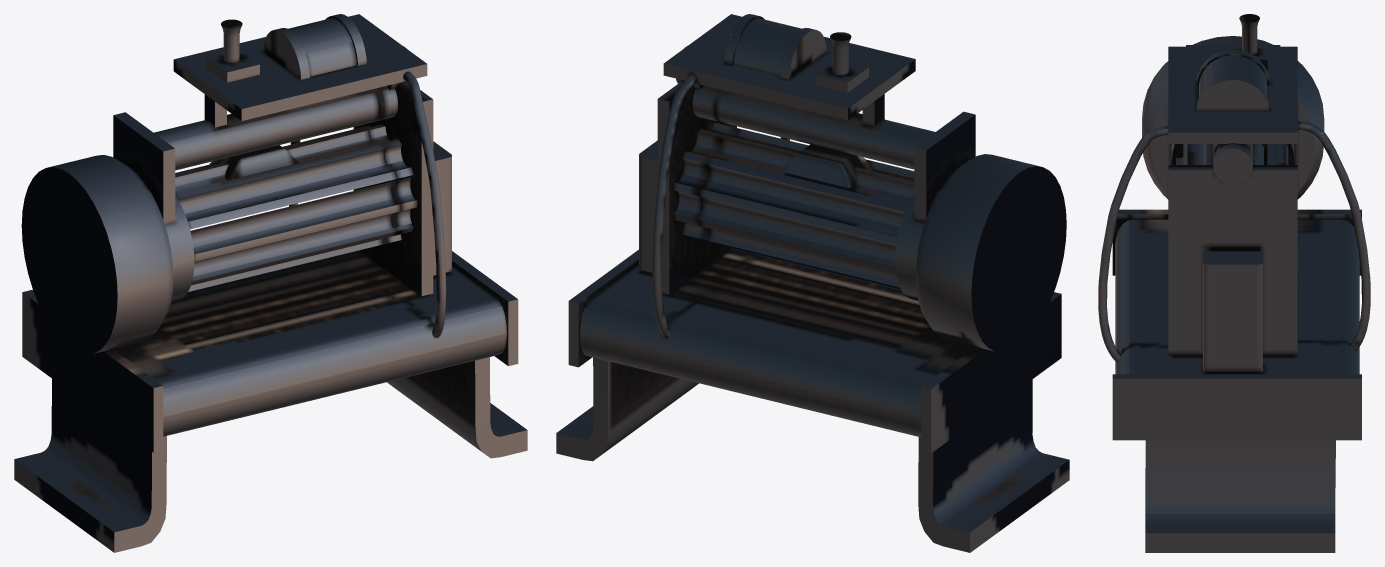
The model's file is dianzi_1.gltf.
3 renders of one model, left to right at view 1: azimuth 30°, elevation 25°; view 2: azimuth 150°, elevation 25°; view 3: azimuth 270°, elevation 25°, orthographic. The views are drawn at different scales.
Parts seen in each view (by area): view 1: 元件_1; view 2: 元件_1; view 3: 元件_1.
Part boxes in pixels (x1,y1,x2,y2): 元件_1: [14, 14, 527, 552]; 元件_1: [556, 14, 1069, 552]; 元件_1: [1098, 14, 1370, 552].
Size of the model in its own units: 2.06 by 2.11 by 1.23.
Materials: 1 (1 with a texture image).
